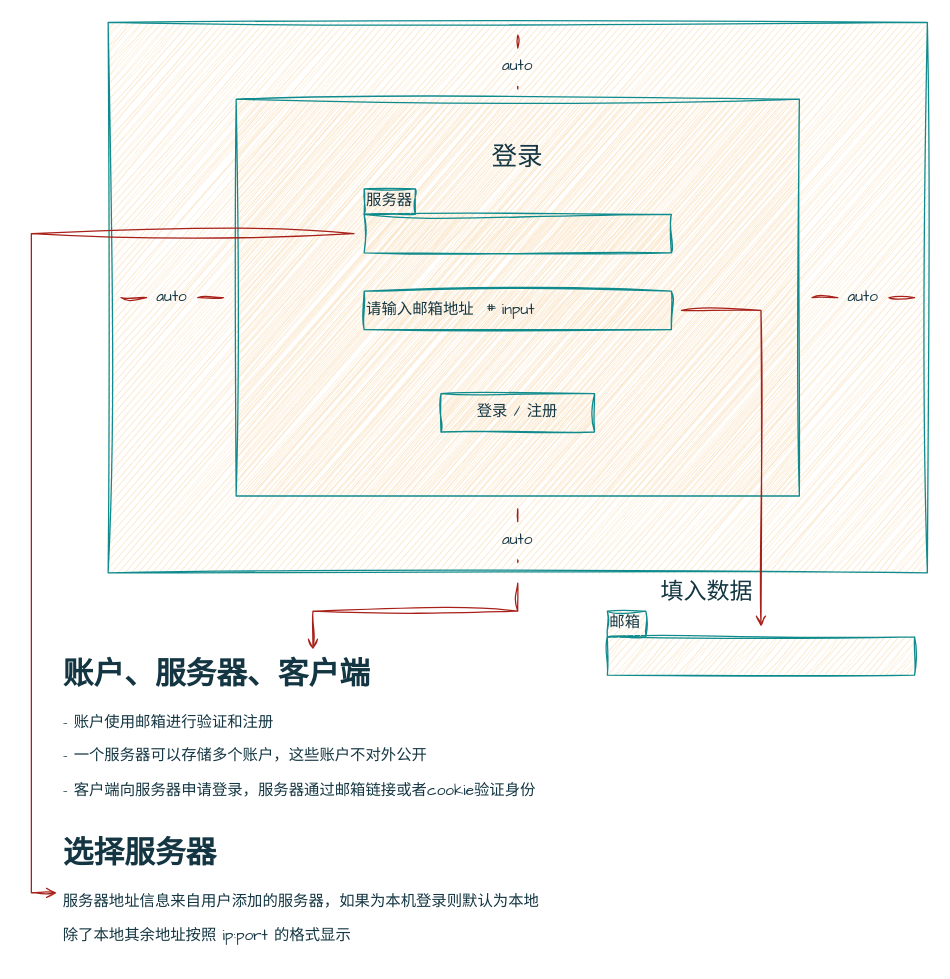
This 950x979 diagram has some shape labels left out. Each missing label, with the centre of its shape:
"test@test.email" belongs at (x=760, y=655).
"本地 # button 弹出服务器选择界面" belongs at (x=517, y=233).
